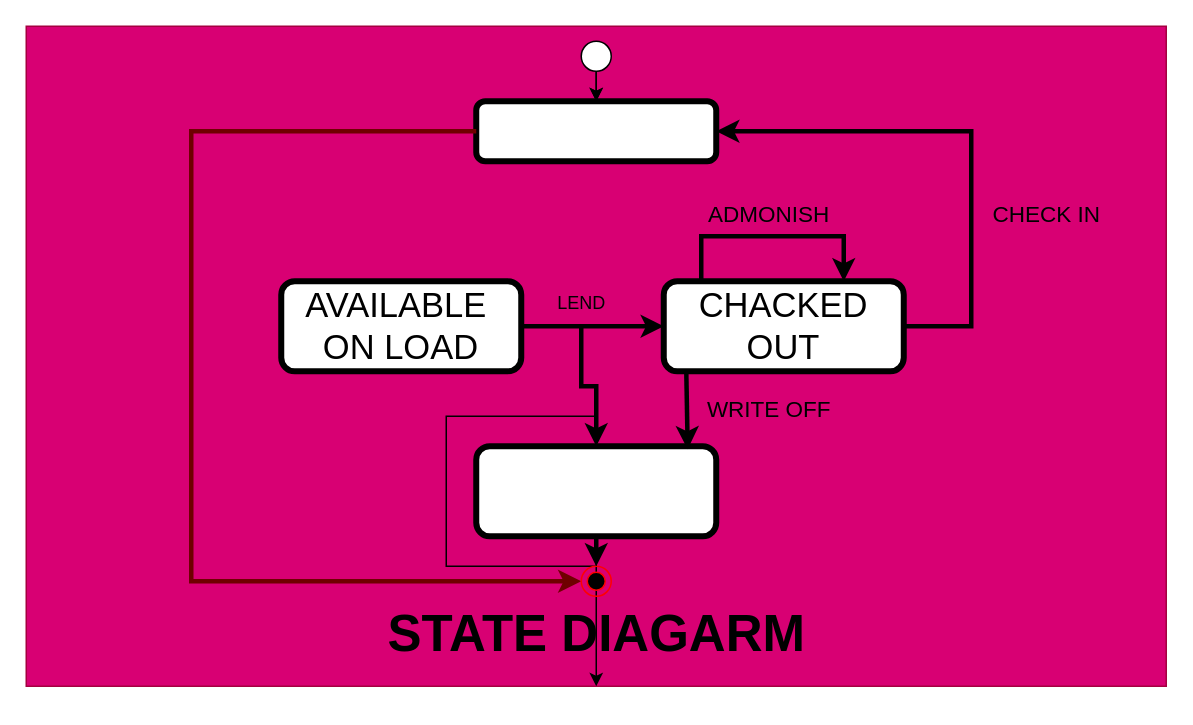
The diagram is 1193 pixels wide and 725 high, and some of its shapes have lost their labels. Each missing label, with the centre of its shape:
IN STOCK: (595,131)
LOST: (595,490)
